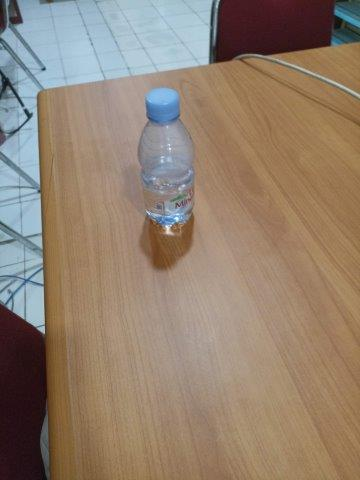botolplastik: (138, 87, 195, 229)
